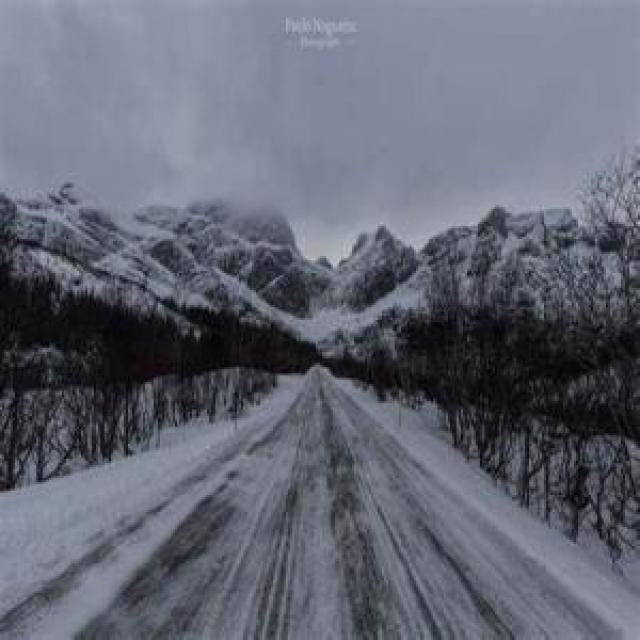ice-road: (0, 368, 640, 640)
